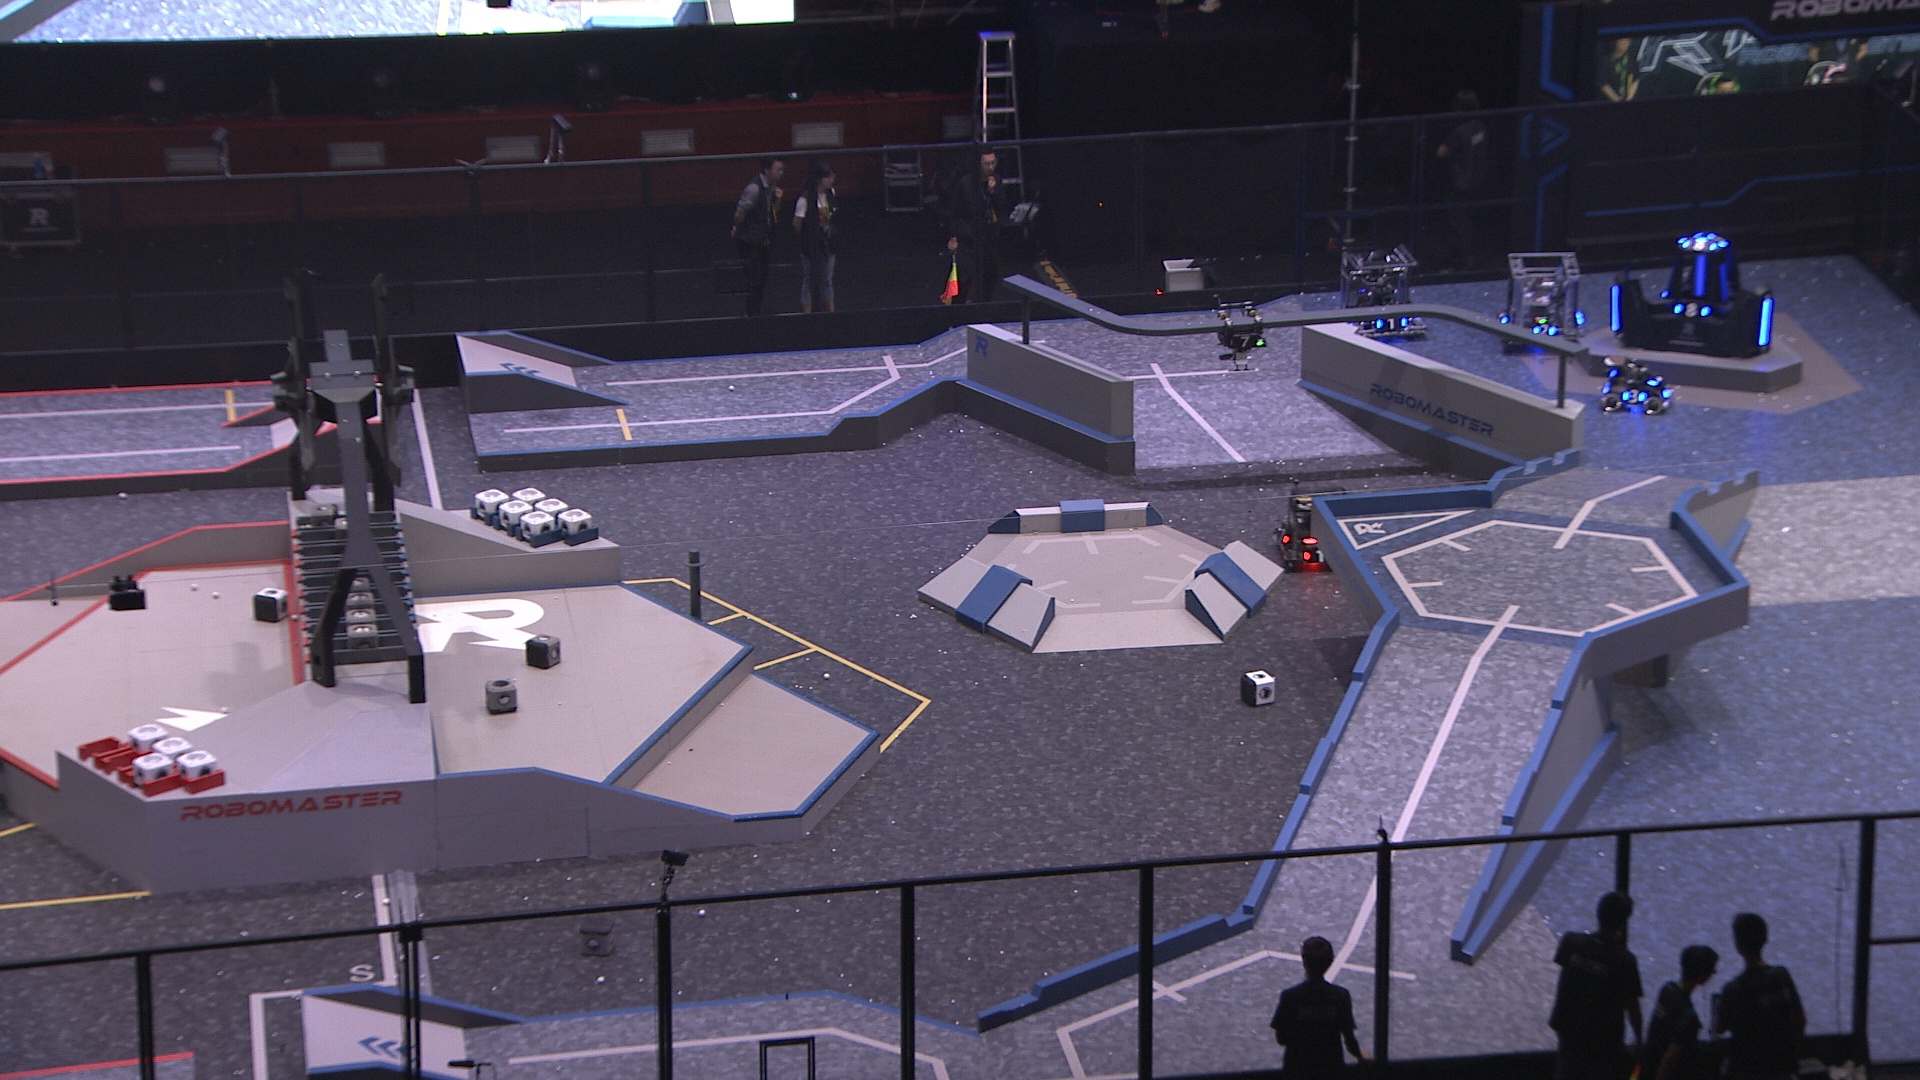armor: (1755, 295, 1776, 348), (1607, 284, 1625, 332), (1693, 252, 1712, 295), (1681, 237, 1721, 256), (1673, 301, 1712, 319), (1373, 315, 1408, 332), (1226, 334, 1263, 349), (1717, 258, 1730, 301), (1302, 545, 1328, 564), (1622, 386, 1647, 406), (1706, 233, 1730, 252), (1275, 524, 1292, 546), (1534, 324, 1560, 339), (1495, 306, 1513, 324)
base: (1604, 225, 1780, 363)
car: (1490, 249, 1588, 353), (1335, 245, 1427, 343), (1269, 481, 1352, 572), (1598, 353, 1676, 419)
watcher: (1209, 289, 1269, 373)
